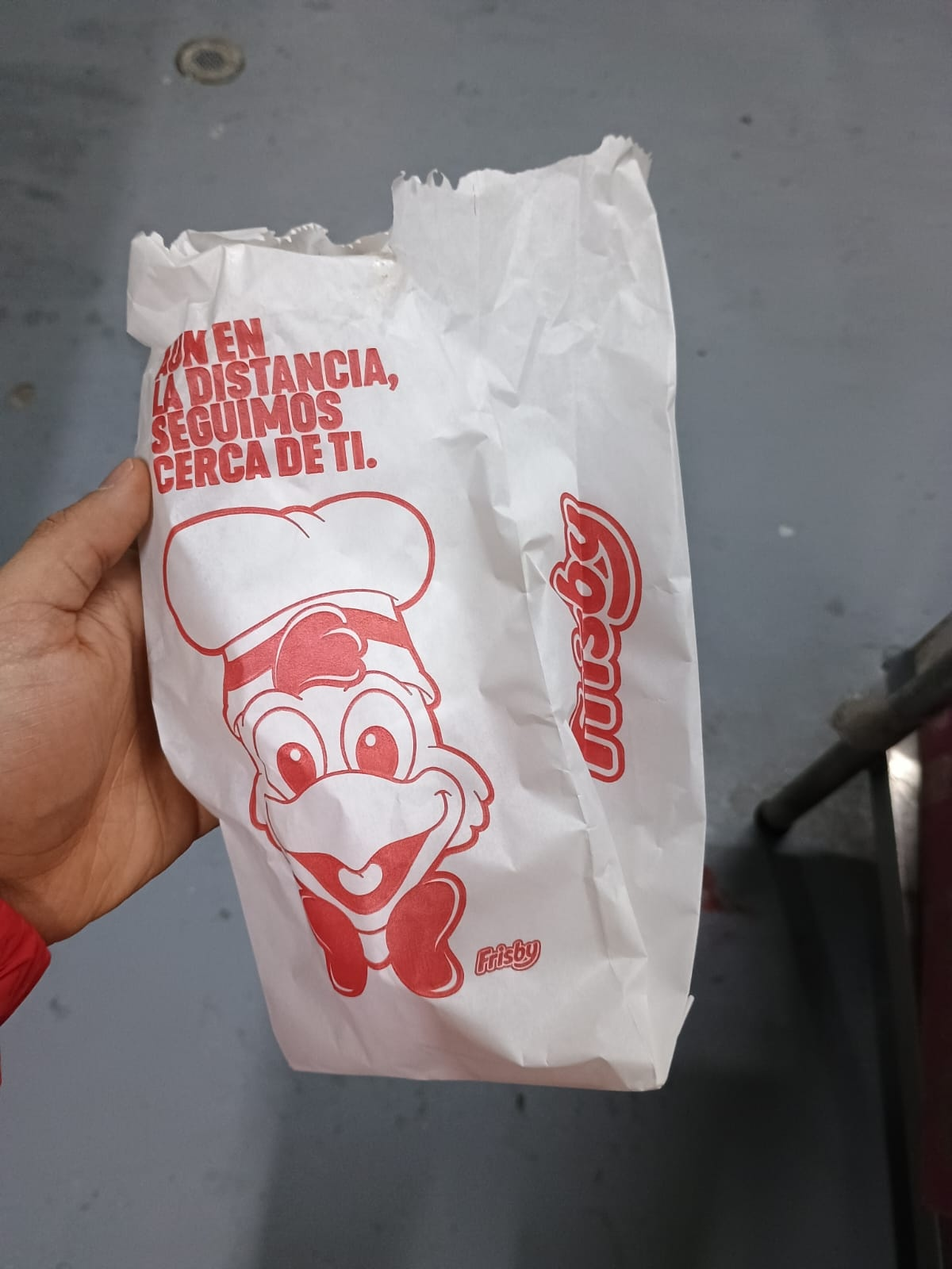Papel: (129, 131, 710, 1092)
